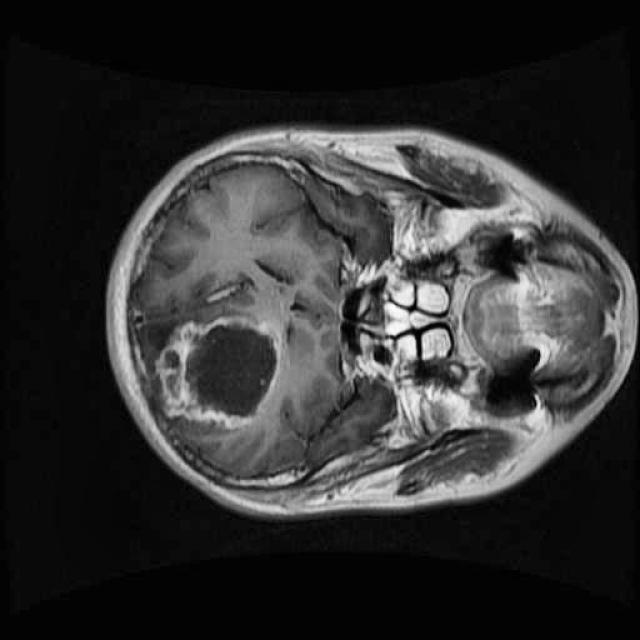Non-Tumor: (153, 304, 291, 442)
